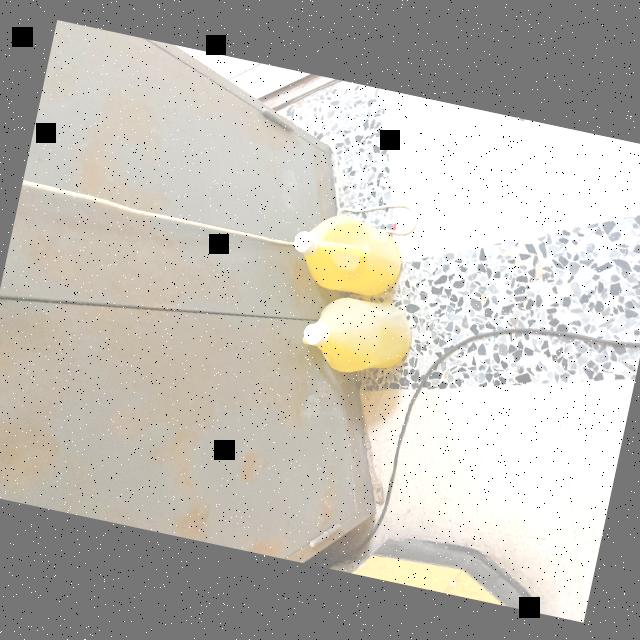chemical_plastic_gallon: (292, 282, 422, 396), (281, 197, 415, 306)
